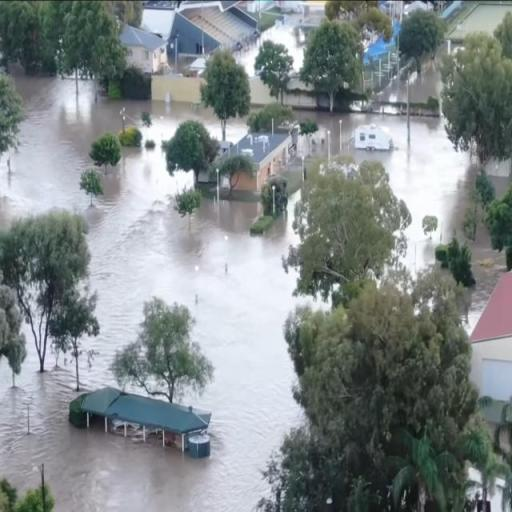flood: (0, 76, 310, 512), (298, 113, 473, 272), (468, 225, 506, 332), (264, 23, 304, 71), (410, 59, 443, 116), (374, 68, 408, 114), (237, 46, 258, 76), (494, 178, 509, 188)
house: (80, 386, 214, 456), (470, 270, 512, 394), (118, 12, 170, 78), (246, 129, 292, 190)
